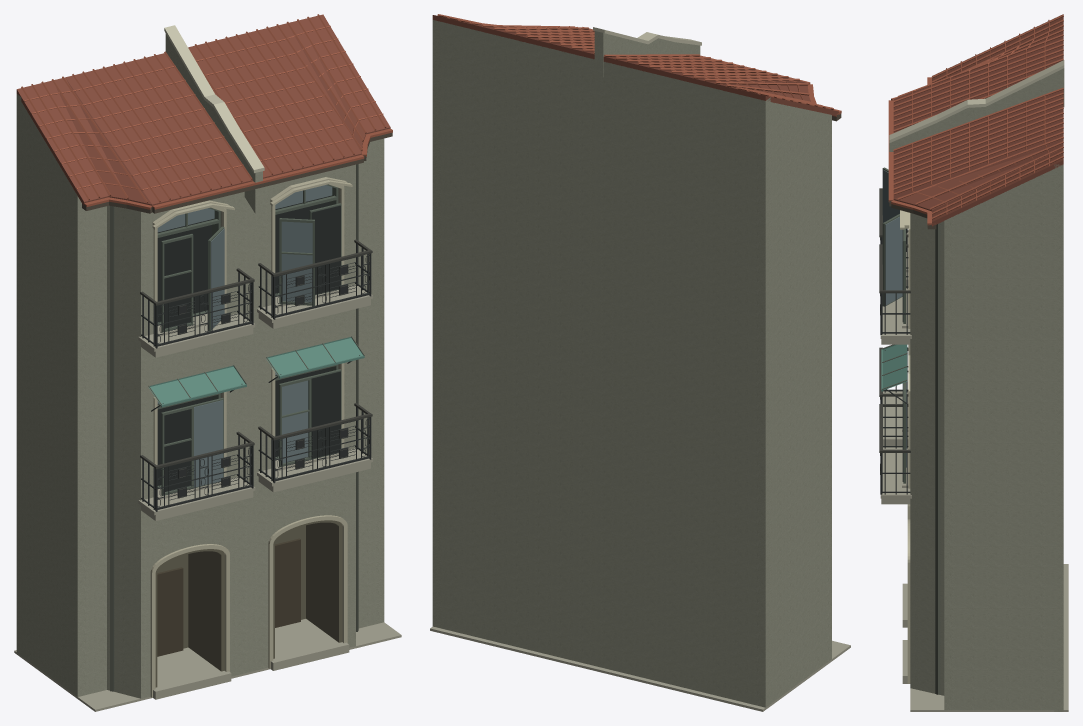
File: xuhui-libo-terrace-one-two-balconies-lod.glb
3 renders of one model, left to right at view 1: azimuth 30°, elevation 25°; view 2: azimuth 150°, elevation 25°; view 3: azimuth 270°, elevation 25°, orthographic. The views are drawn at different scales.
Parts seen in each view (by area): view 1: 丽波花园南排一、二号分户双阳台; view 2: 丽波花园南排一、二号分户双阳台; view 3: 丽波花园南排一、二号分户双阳台.
Part boxes in pixels (x1,y1,x2,y2): 丽波花园南排一、二号分户双阳台: [14, 14, 401, 711]; 丽波花园南排一、二号分户双阳台: [430, 14, 850, 711]; 丽波花园南排一、二号分户双阳台: [879, 14, 1068, 711].
Size of the model in its own units: 6.38 by 11.74 by 3.49.
Materials: 16 (1 with a texture image).
